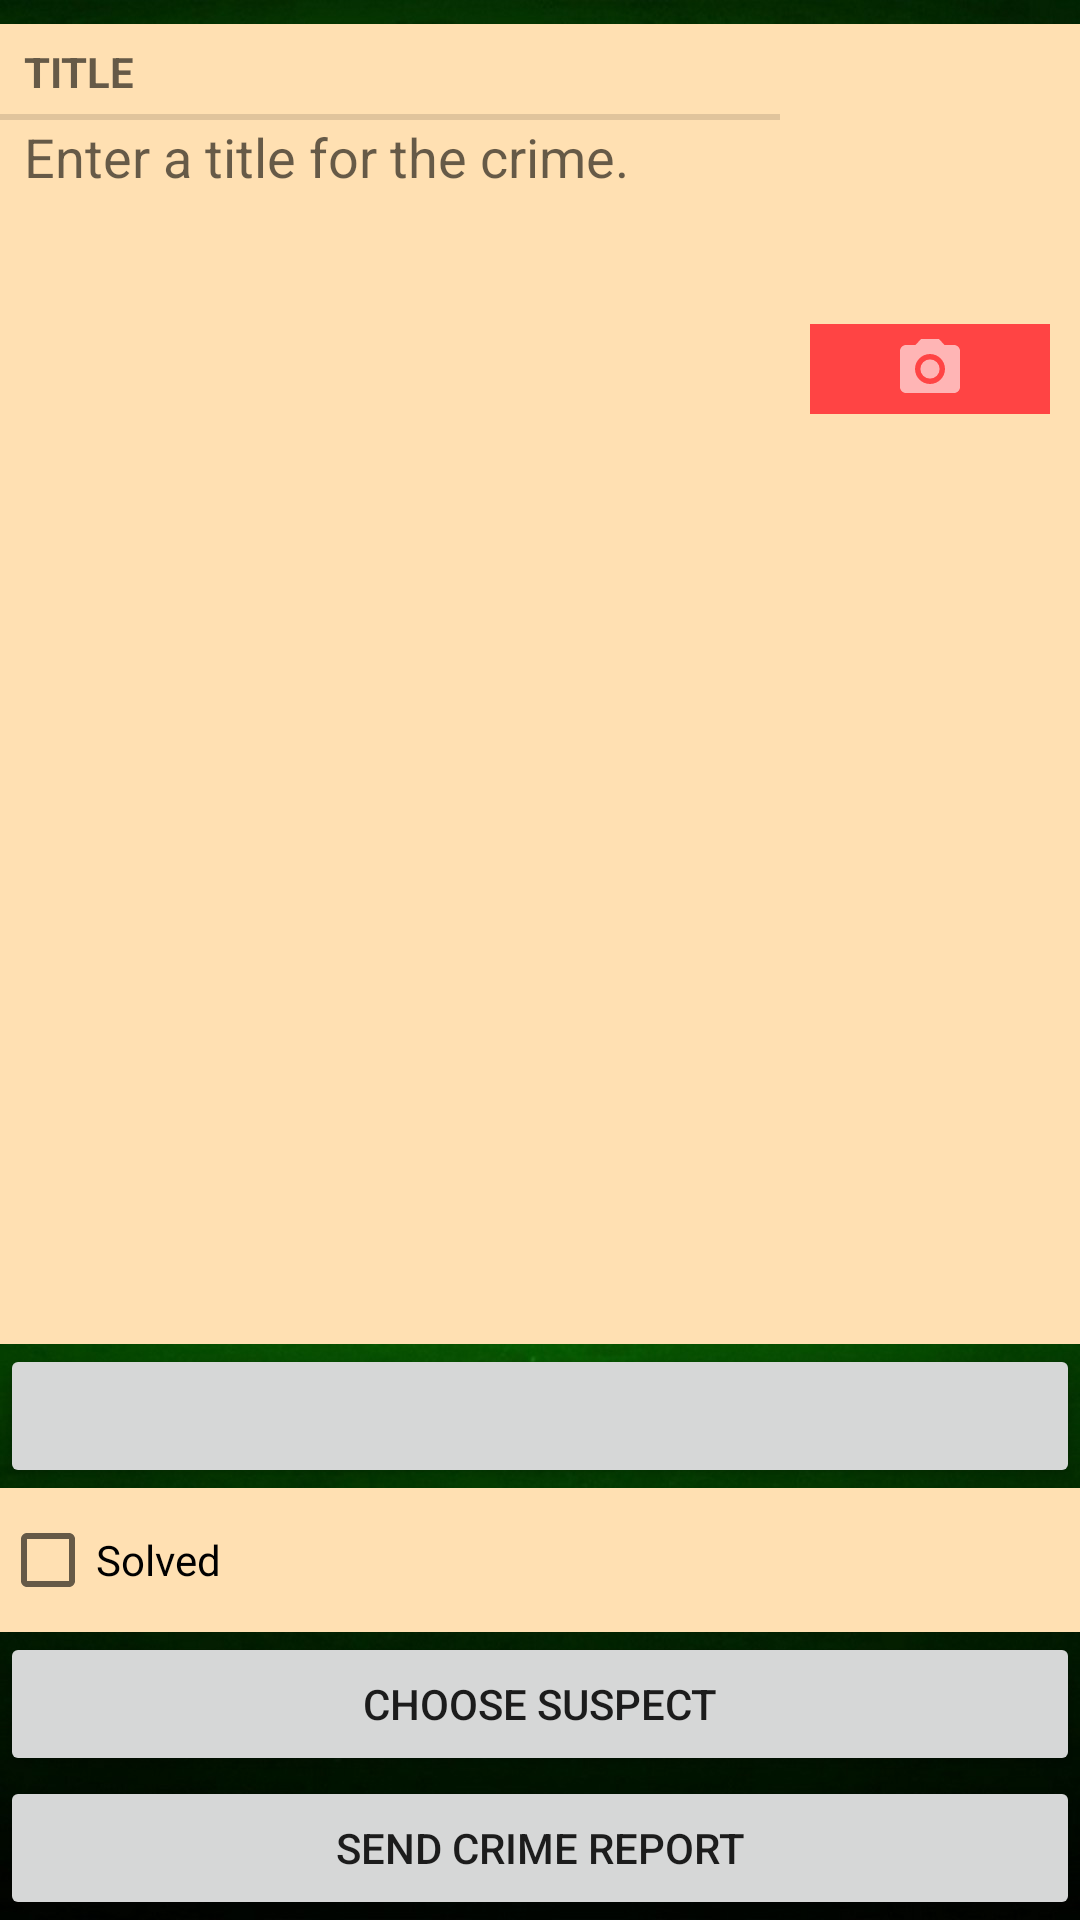

Screen size 1080px×1920px. Icon name, then its center in pixels as (x=x, y=y):
camera: (x=930, y=369)
